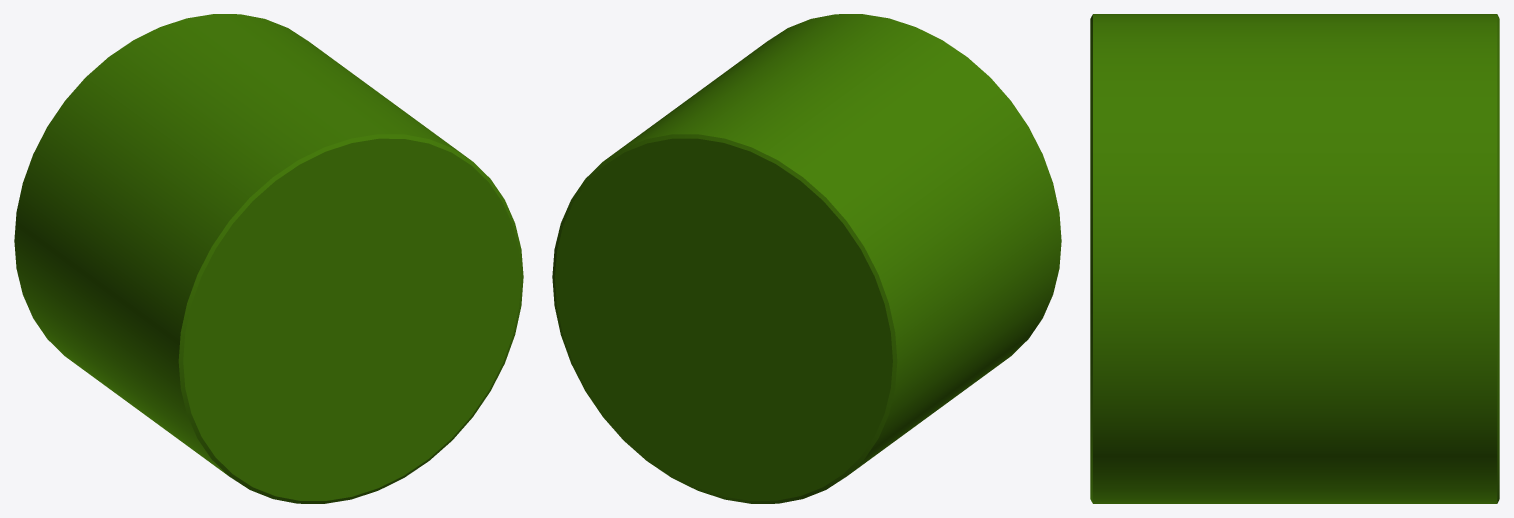
File: Code_Cylinder_Vert_Base.fbx
3 renders of one model, left to right at view 1: azimuth 30°, elevation 25°; view 2: azimuth 150°, elevation 25°; view 3: azimuth 270°, elevation 25°, orthographic. The views are drawn at different scales.
Visible parts, largest first — view 1: Code_Cylinder_Vert_Base; view 2: Code_Cylinder_Vert_Base; view 3: Code_Cylinder_Vert_Base.
Part boxes in pixels (box(x1,y1,x2,y2)): Code_Cylinder_Vert_Base: box(14, 14, 523, 503); Code_Cylinder_Vert_Base: box(552, 14, 1061, 503); Code_Cylinder_Vert_Base: box(1090, 14, 1499, 503).
Bounding box in the file's own units: 32.02 × 32.02 × 26.74.
